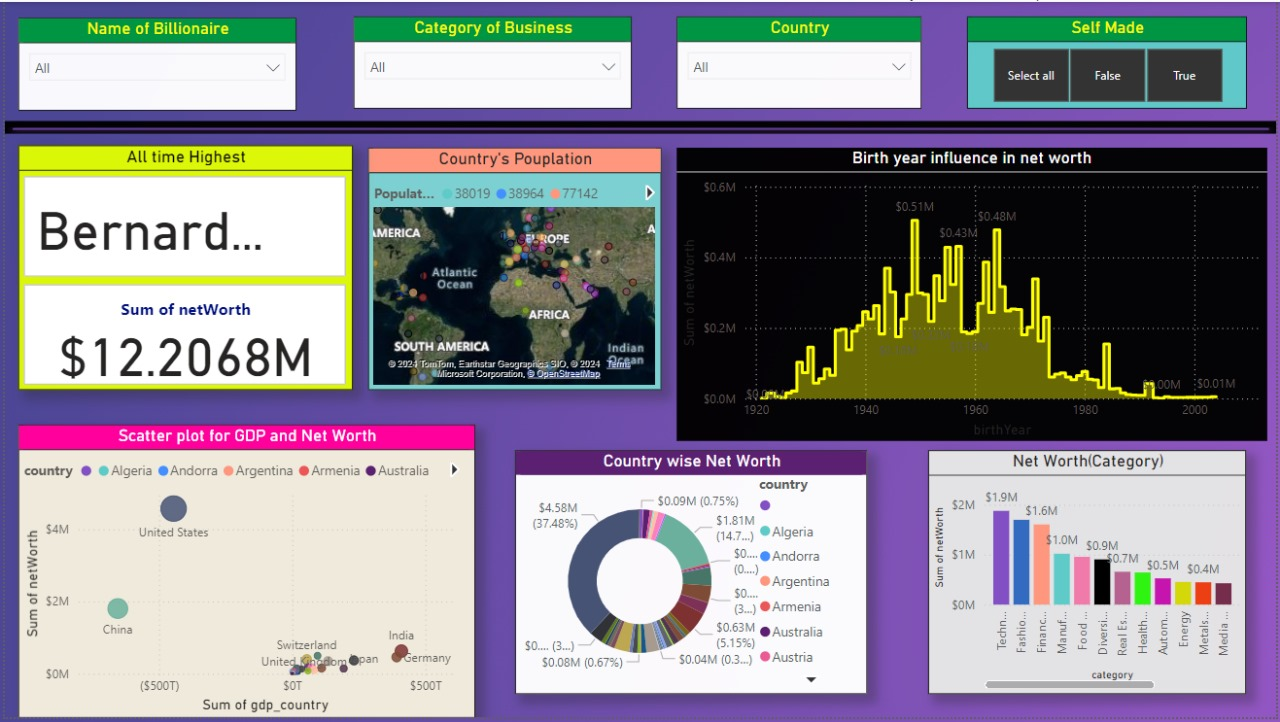

Layout of this report page (visuals, bound fields, positions):
{"tool":"powerbi","page":{"name":"Page 1","canvas":[1280,720],"ordinal":0},"visuals":[{"type":"slicer","title":"Self Made","fields":{"Values":["Billionaires_Statistics_Dataset.selfMade"]},"box":[968.5,15.2,281.3,92.8],"z":0},{"type":"slicer","title":"Name of Billionaire","fields":{"Values":["Billionaires_Statistics_Dataset.personName"]},"box":[13.5,0,280,92.9],"z":1000},{"type":"slicer","title":"Country","fields":{"Values":["Billionaires_Statistics_Dataset.country"]},"box":[676.2,15.2,246.6,92.8],"z":2000},{"type":"slicer","title":"Category of Business","fields":{"Values":["Billionaires_Statistics_Dataset.category"]},"box":[350.6,15.2,279.9,92.8],"z":3000},{"type":"shape","box":[0,119.7,1280.3,12.5],"z":4000},{"type":"map","title":"Country''s Pouplation","fields":{"Category":["Billionaires_Statistics_Dataset.country"],"Series":["Billionaires_Statistics_Dataset.population_country"]},"box":[365.8,146.9,295.1,243.9],"z":5000},{"type":"donutChart","title":"Country wise Net Worth","fields":{"Y":["Billionaires_Statistics_Dataset.netWorth"],"Series":["Billionaires_Statistics_Dataset.country"]},"box":[514.1,451.7,354.7,245.2],"z":6000},{"type":"columnChart","title":"Net Worth(Category)","fields":{"Category":["Billionaires_Statistics_Dataset.category"],"Y":["Billionaires_Statistics_Dataset.netWorth"]},"box":[929.7,451.7,320.1,245.2],"z":7000},{"type":"cardVisual","title":"All time Highest","fields":{"Data":["Billionaires_Statistics_Dataset.PersonWithHighestNetWorth","Billionaires_Statistics_Dataset.netWorth"]},"box":[13.9,144.1,336.7,246.6],"z":8000},{"type":"scatterChart","title":"Scatter plot for GDP and Net Worth","fields":{"X":["Billionaires_Statistics_Dataset.gdp_country"],"Y":["Billionaires_Statistics_Dataset.netWorth"],"Series":["Billionaires_Statistics_Dataset.country"],"Size":["Billionaires_Statistics_Dataset.age"]},"box":[13.9,425.4,460,295.1],"z":9000},{"type":"lineChart","title":"Birth year influence in net worth","fields":{"Category":["Billionaires_Statistics_Dataset.birthYear"],"Y":["Billionaires_Statistics_Dataset.netWorth"]},"box":[686,144.3,594.3,294.7],"z":10000}]}

Visuals, with their boxes in screenshot pixels (x1, y1, x2, y2), scaled from the page's 1280x720 canvas onto the 1280x722 screenshot:
"Self Made" slicer: l=968, t=15, r=1250, b=108
"Name of Billionaire" slicer: l=14, t=0, r=294, b=93
"Country" slicer: l=676, t=15, r=923, b=108
"Category of Business" slicer: l=351, t=15, r=630, b=108
shape: l=0, t=120, r=1279, b=133
"Country''s Pouplation" map: l=366, t=147, r=661, b=392
"Country wise Net Worth" donutChart: l=514, t=453, r=869, b=699
"Net Worth(Category)" columnChart: l=930, t=453, r=1250, b=699
"All time Highest" cardVisual: l=14, t=145, r=351, b=392
"Scatter plot for GDP and Net Worth" scatterChart: l=14, t=427, r=474, b=721
"Birth year influence in net worth" lineChart: l=686, t=145, r=1279, b=440
